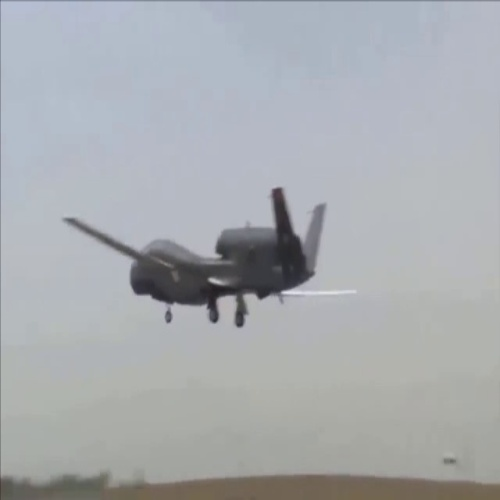uav: (58, 187, 362, 328)
